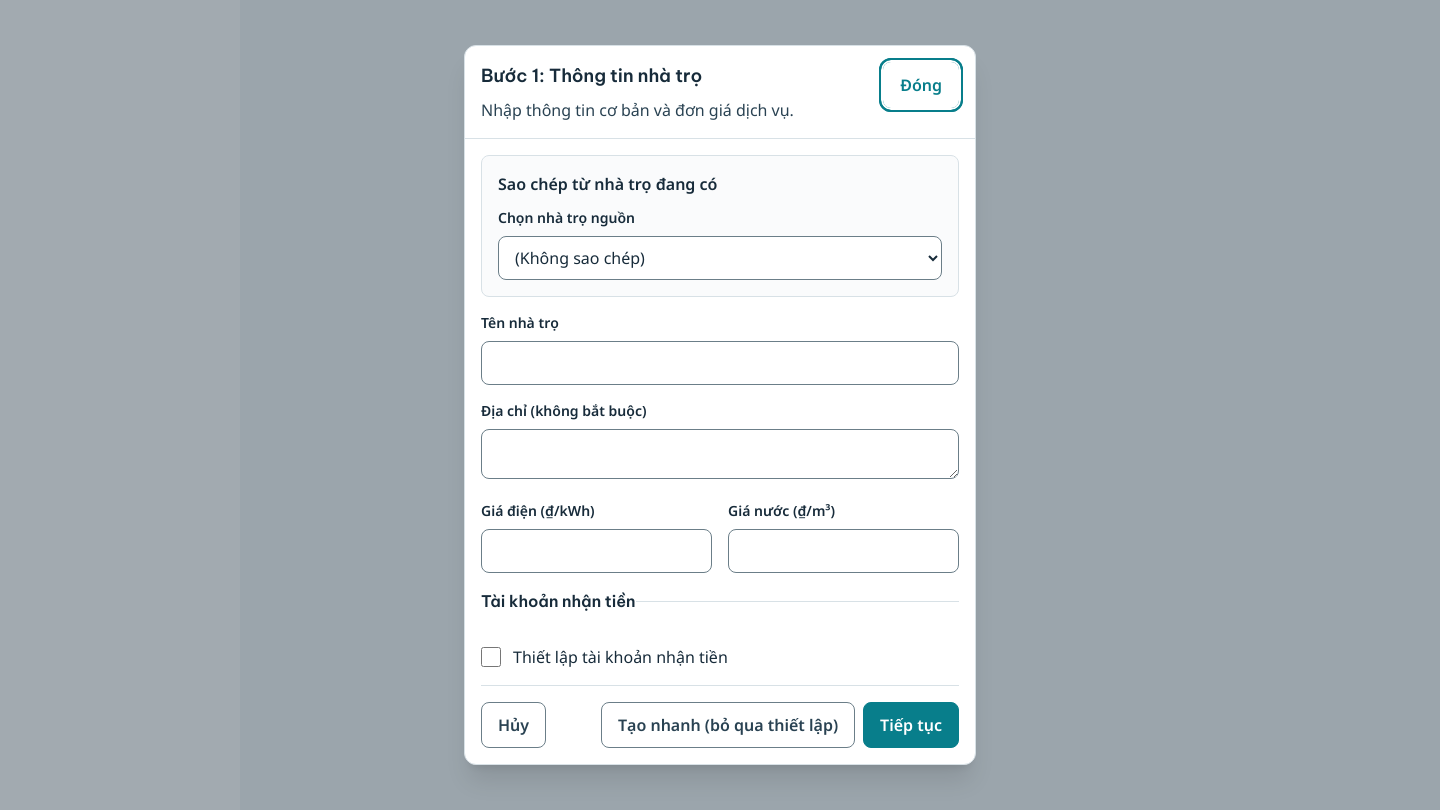
Test: MotelSetupWizard › copy from existing motel applies selected groups without overwriting name/address
Type "Nhà Mới Test" into the field labelled "Tên nhà trọ" at (720, 363), box [481,341,959,385]
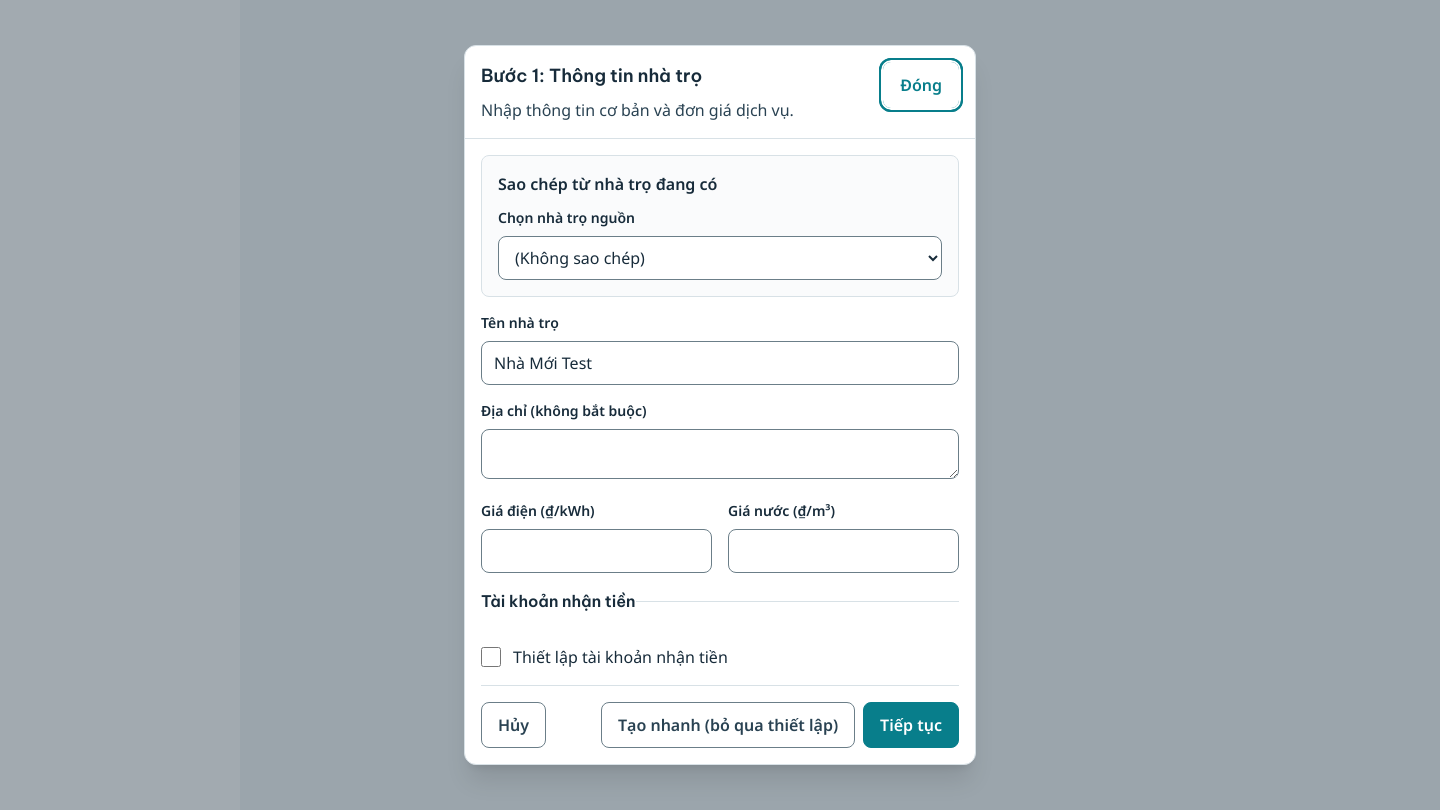
Type "456 Đường Mới" into the text box labelled "Địa chỉ (không bắt buộc)" at (720, 454), box [481,429,959,479]
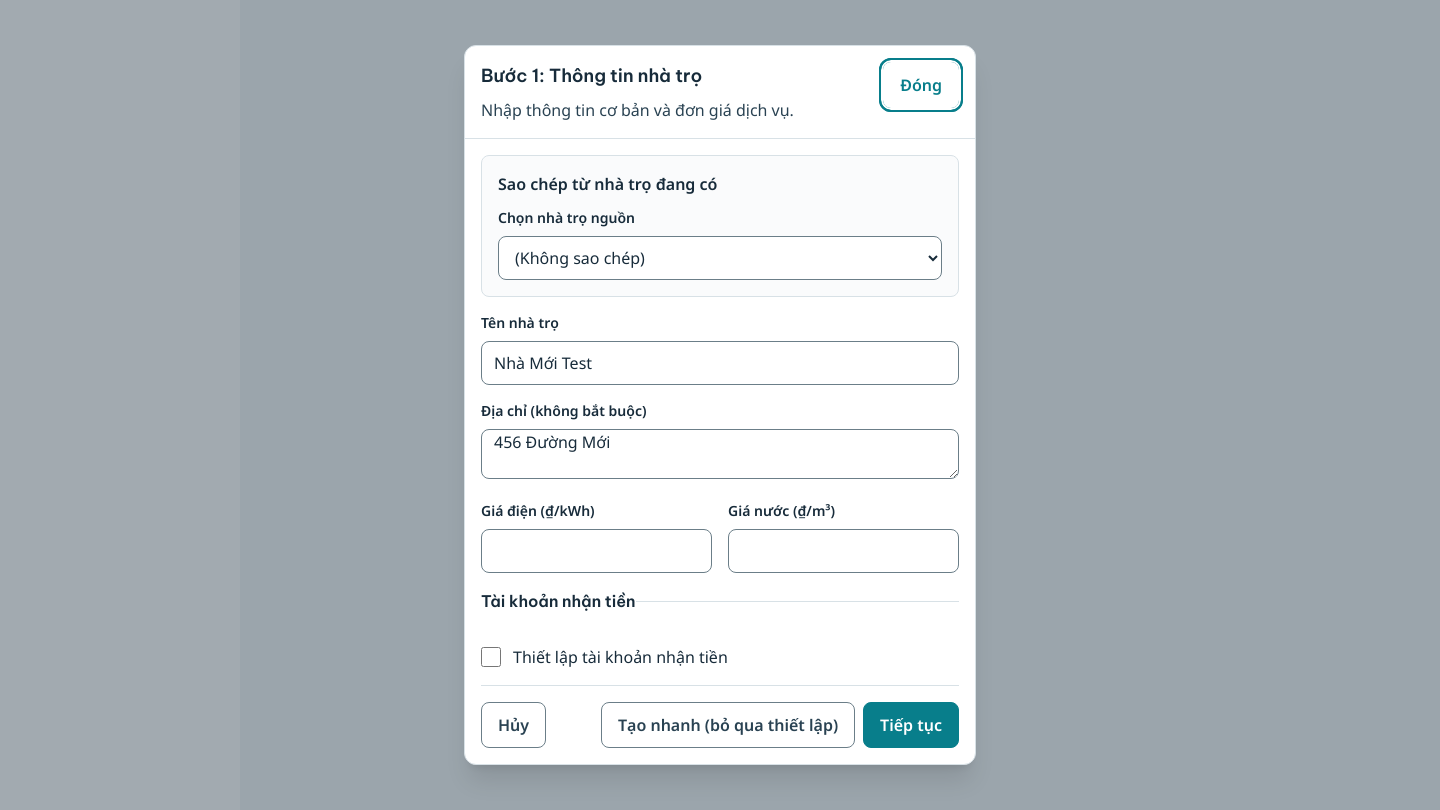
Select "Nhà Cũ" in the dropdown labelled "Chọn nhà trọ nguồn" at (720, 258), box [498,236,942,280]
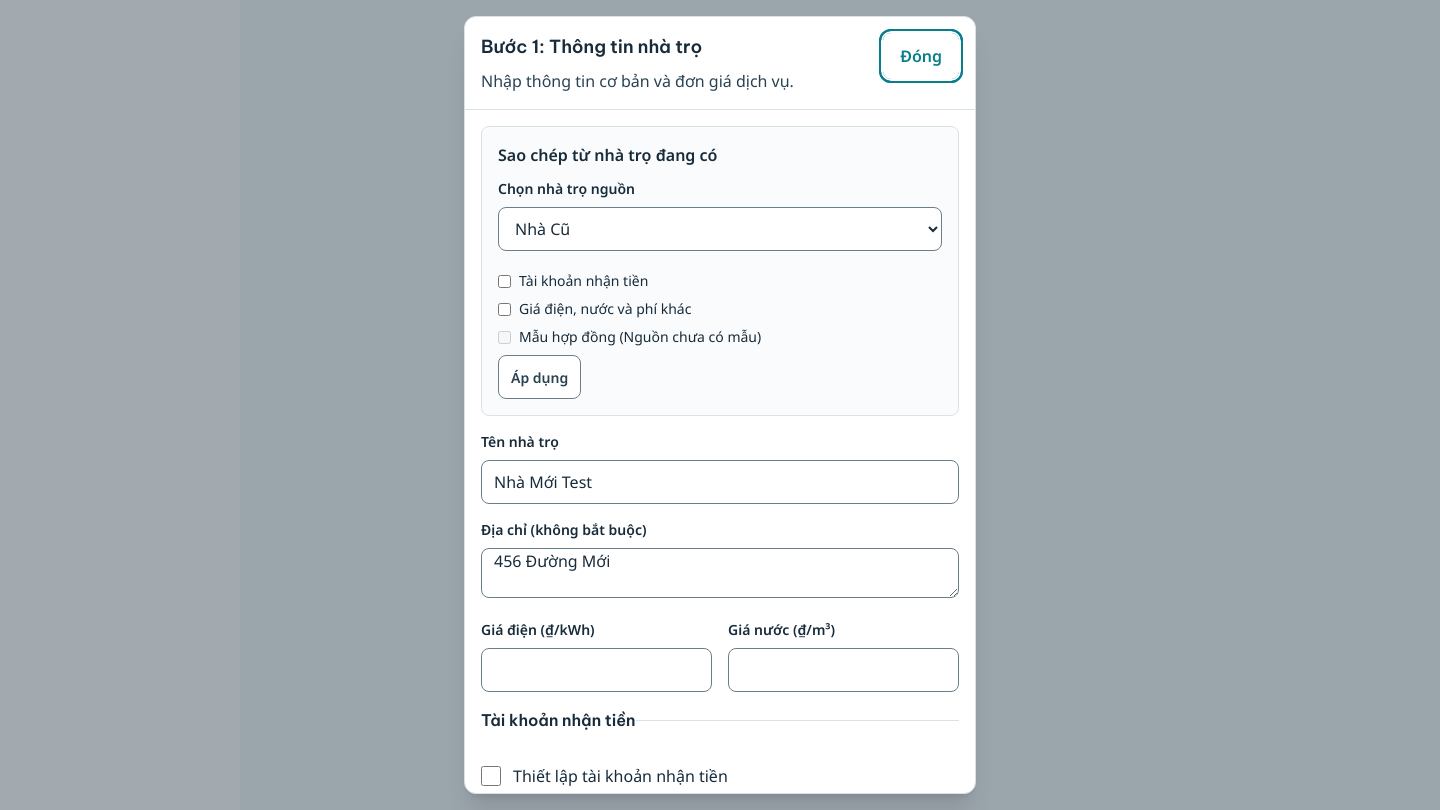
expect the checkbox labelled "Tài khoản nhận tiền" is not checked: met
expect the checkbox labelled "Giá điện, nước và phí khác" is not checked: met, box [498,302,511,316]
Click the checkbox labelled "Tài khoản nhận tiền" at (504, 281), box [498,274,511,288]
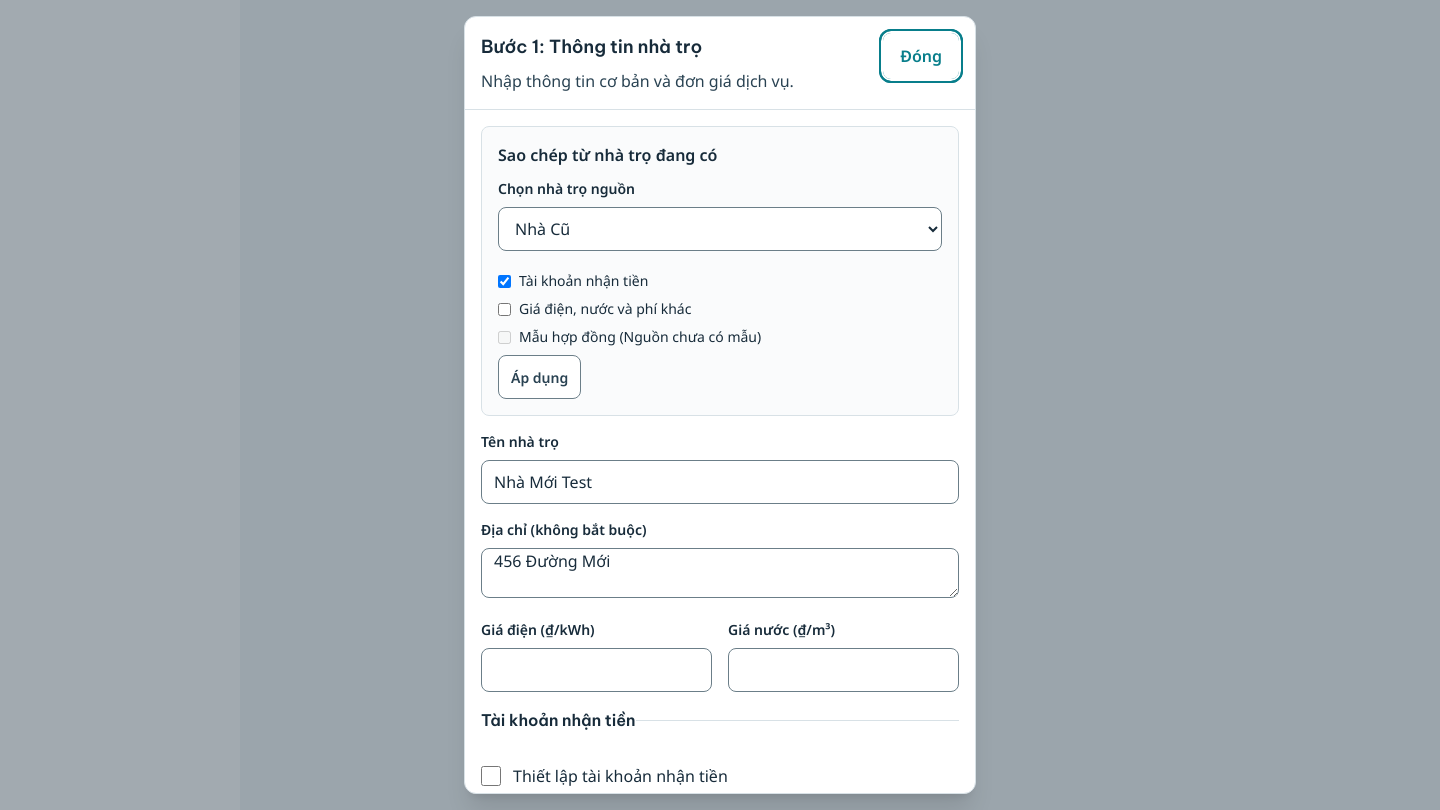
Click the checkbox labelled "Giá điện, nước và phí khác" at (504, 309), box [498,302,511,316]
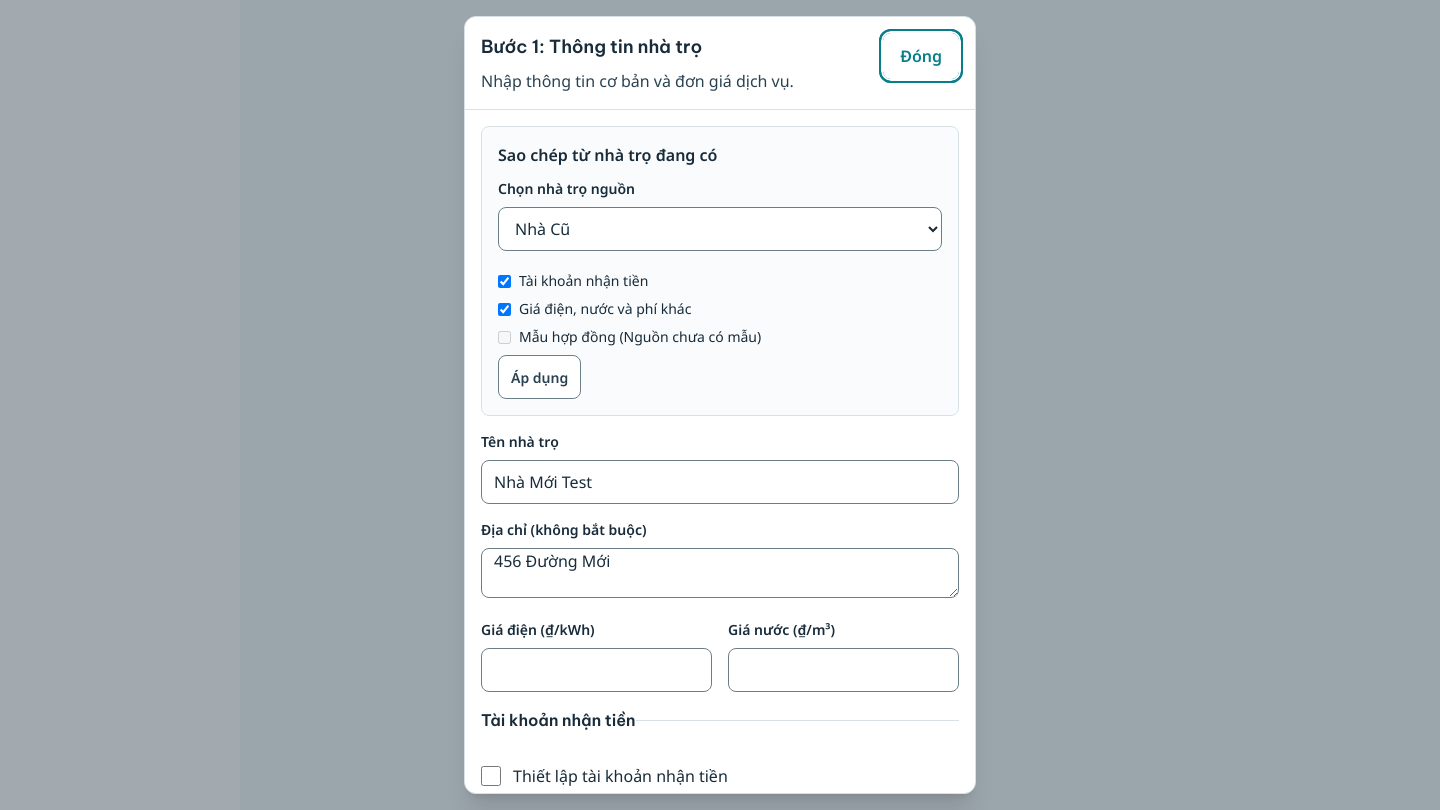
Click the button "Áp dụng" at (540, 377), box [498,355,581,399]
(page scrolled)
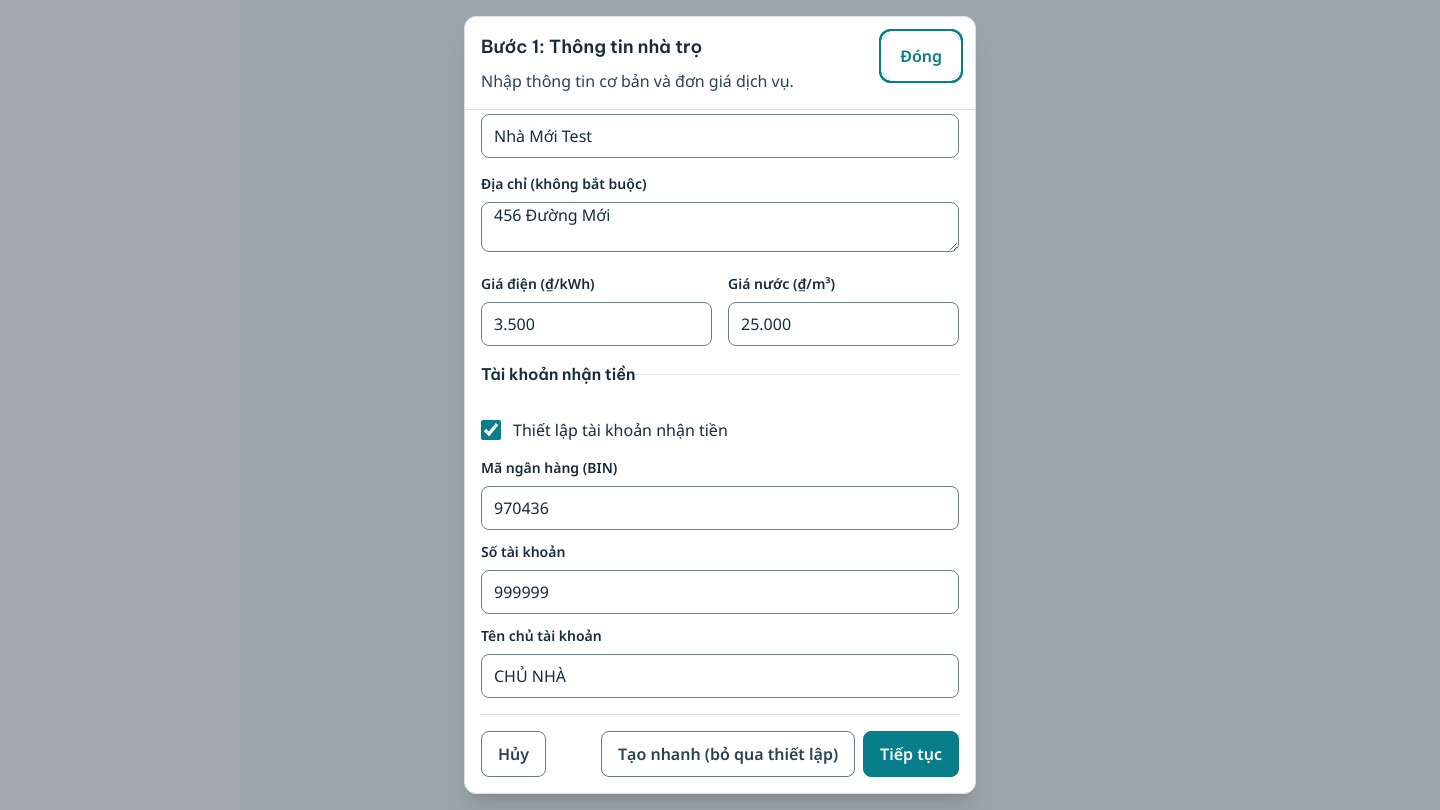
expect the field labelled "Giá điện (₫/kWh)" holds "3.500": met, box [481,302,712,346]
expect the field labelled "Giá nước (₫/m³)" holds "25.000": met, box [728,302,959,346]
expect the field labelled "Số tài khoản" holds "999999": met, box [481,570,959,614]
